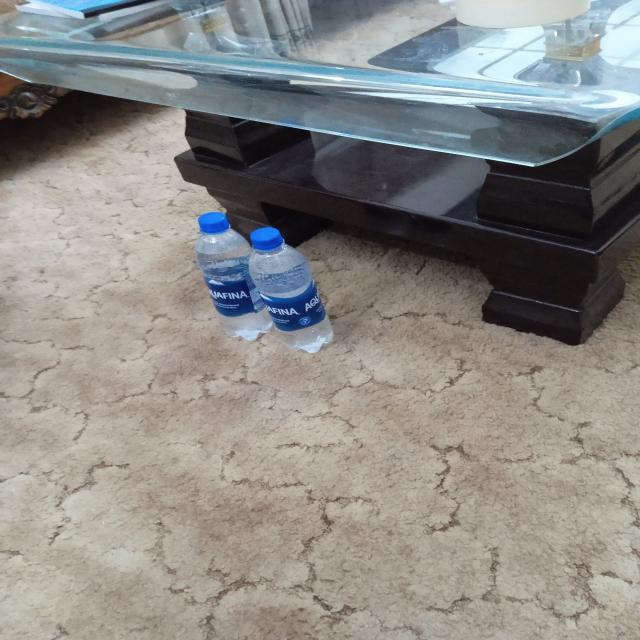Plastic: (250, 229, 336, 354), (192, 211, 252, 337)
